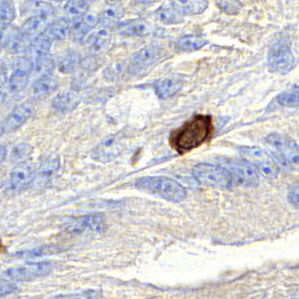Lymphocyte: (171, 113, 212, 152)
